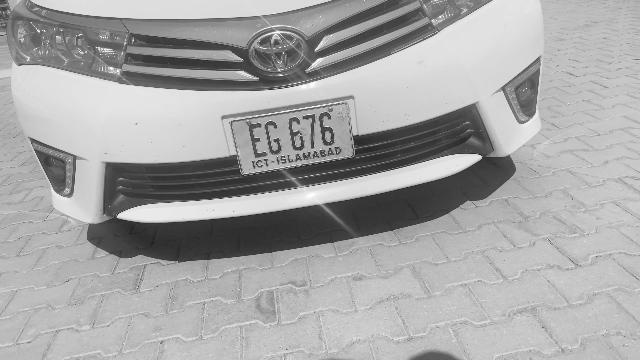Number: (247, 108, 343, 161)
